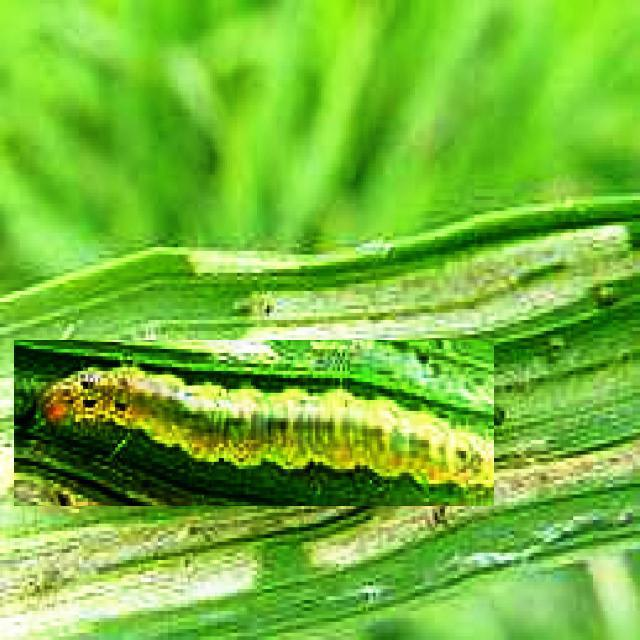leaf-folder: (14, 341, 494, 507)
